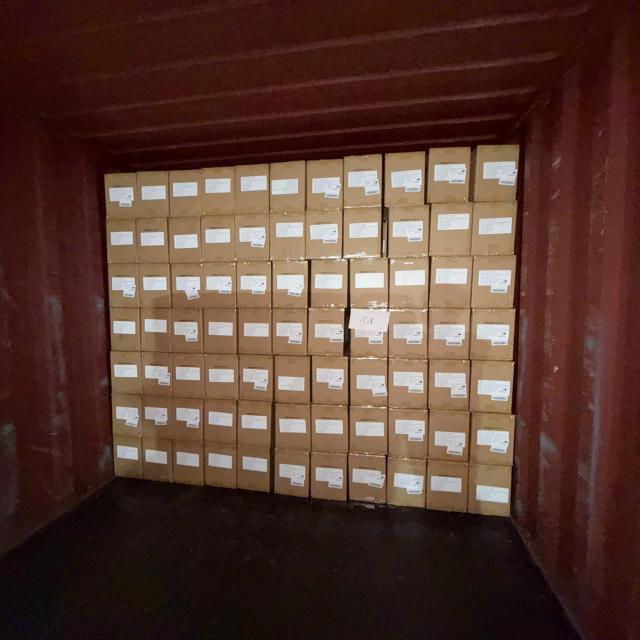Carton: (474, 147, 522, 205), (474, 201, 520, 257), (473, 255, 519, 309), (428, 151, 472, 207), (470, 360, 515, 414), (468, 465, 512, 520), (472, 411, 516, 465), (387, 206, 431, 260), (382, 155, 424, 211), (431, 256, 474, 310), (428, 203, 470, 258), (472, 311, 517, 362), (429, 411, 471, 465), (428, 360, 471, 412), (429, 309, 471, 362), (343, 156, 382, 212), (427, 462, 469, 514), (342, 206, 383, 258), (389, 407, 429, 460), (391, 258, 431, 310), (386, 459, 426, 510), (348, 310, 388, 360), (349, 259, 389, 309), (308, 161, 346, 213), (348, 406, 387, 456), (391, 311, 430, 361), (347, 456, 386, 506), (350, 356, 389, 405), (391, 357, 429, 407), (309, 454, 347, 504), (312, 260, 350, 309), (308, 209, 346, 258), (308, 308, 346, 356), (314, 355, 352, 403), (273, 404, 311, 452), (197, 170, 235, 218), (269, 213, 305, 263), (271, 163, 306, 214), (314, 405, 351, 453), (274, 354, 311, 402), (273, 453, 310, 501), (235, 446, 270, 496), (272, 262, 308, 310), (172, 172, 209, 218), (234, 167, 268, 216), (272, 311, 307, 358), (234, 212, 268, 260), (240, 356, 274, 404), (204, 353, 239, 399), (203, 308, 237, 355), (237, 310, 271, 357), (235, 262, 269, 308), (236, 402, 270, 448), (168, 218, 201, 265), (201, 217, 234, 264), (205, 400, 238, 446), (137, 219, 169, 266), (204, 263, 237, 308), (170, 264, 202, 310), (205, 446, 237, 492), (175, 443, 207, 489), (138, 172, 170, 218), (175, 352, 207, 398), (112, 350, 144, 395), (108, 176, 140, 221), (172, 308, 203, 354), (140, 264, 172, 308), (142, 351, 172, 397), (176, 398, 206, 444), (109, 264, 140, 308), (109, 308, 140, 352), (140, 308, 170, 353), (109, 217, 139, 262), (142, 441, 172, 486), (113, 395, 144, 438), (114, 436, 144, 480), (142, 397, 172, 440)
